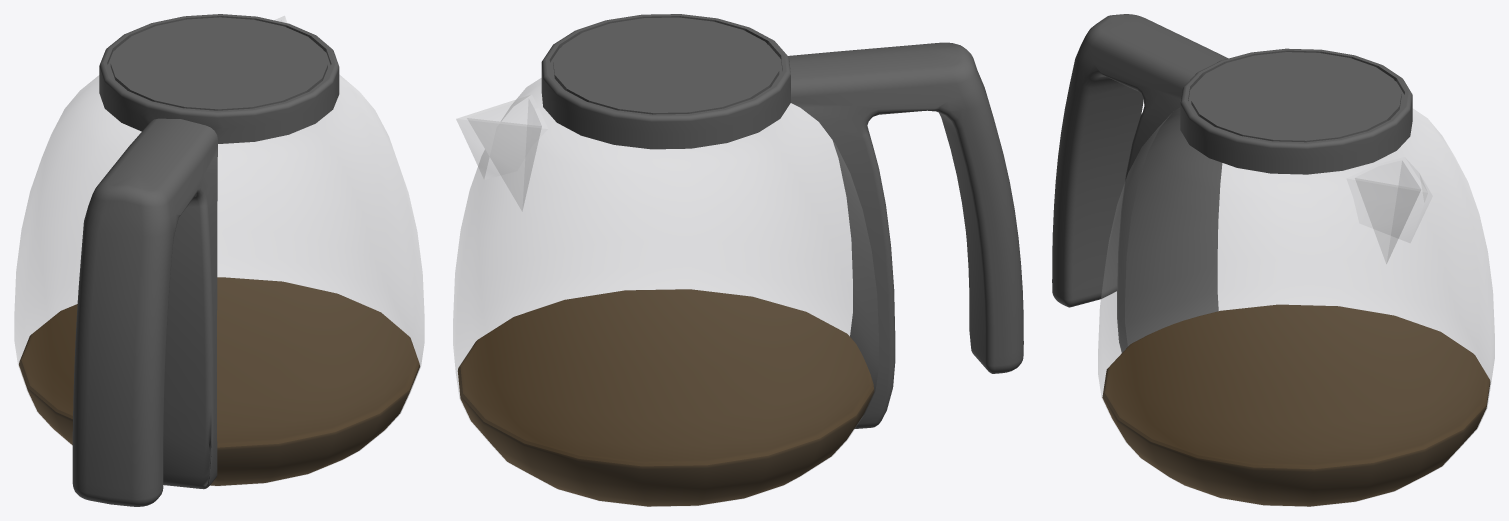
The model's file is Lost Robot Coffee (Note Will Have To Go Inside To Assign Material To Coffee).fbx.
The picture shows the model from 3 angles, left to right: view 1: azimuth 30°, elevation 25°; view 2: azimuth 150°, elevation 25°; view 3: azimuth 270°, elevation 25°; orthographic projection. The views are drawn at different scales.
Parts seen in each view (by area): view 1: pCylinder14; view 2: pCylinder14; view 3: pCylinder14.
Part boxes in pixels (box(x1,y1,x2,y2)): pCylinder14: box(14, 14, 424, 506); pCylinder14: box(453, 14, 1023, 506); pCylinder14: box(1052, 14, 1494, 506).
Size of the model in its own units: 1.87 by 1.58 by 1.77.
